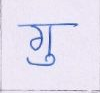u_matra: (26, 53, 58, 67)
